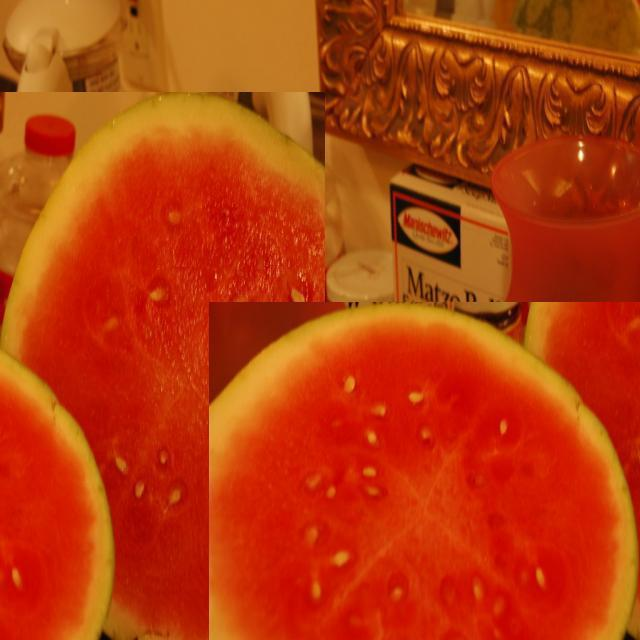Watermelon: (0, 92, 325, 640), (209, 302, 640, 640)
